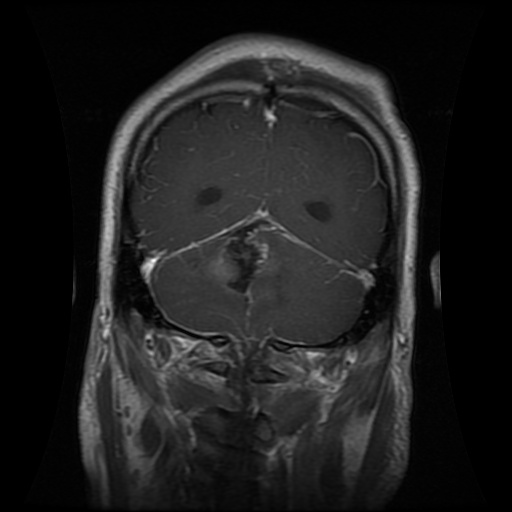glioma: (206, 215, 274, 298)
